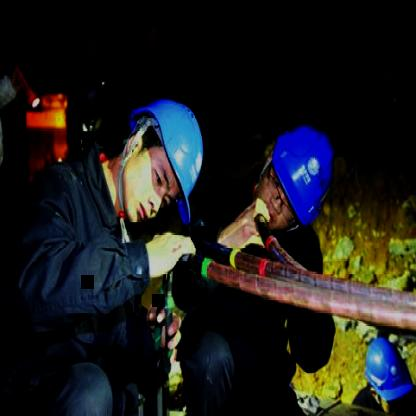helmet: (115, 86, 216, 228), (254, 114, 342, 242), (356, 326, 414, 416)
